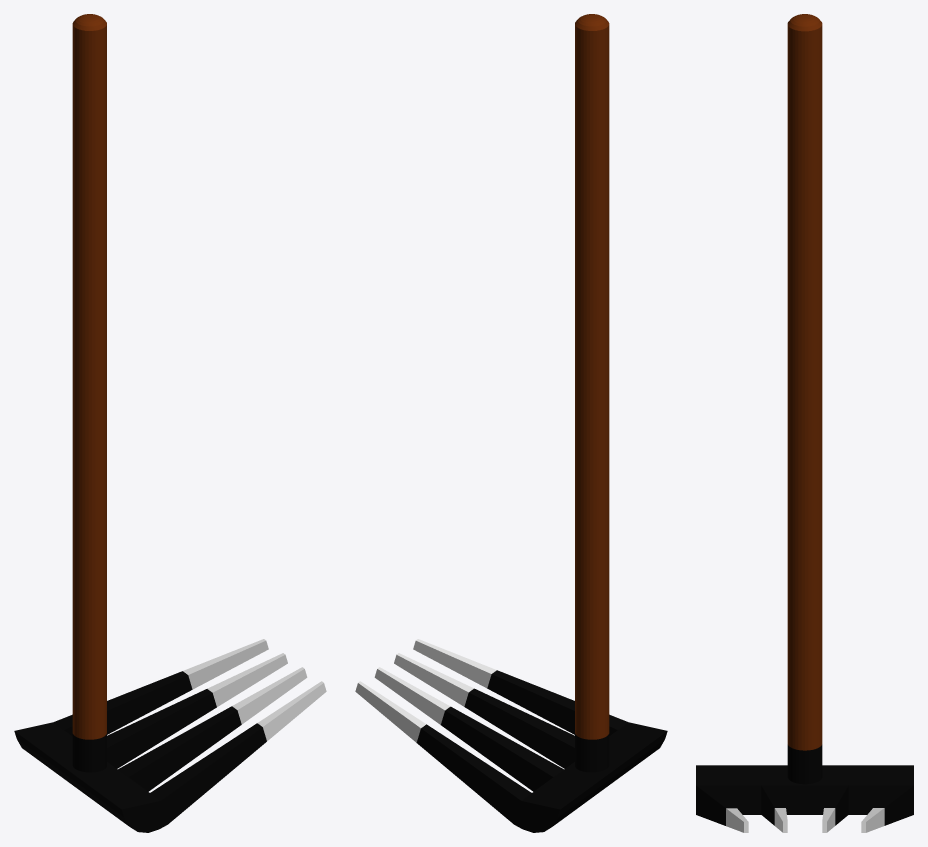
Rendered from Rake.fbx.
The picture shows the model from 3 angles, left to right: view 1: azimuth 30°, elevation 25°; view 2: azimuth 150°, elevation 25°; view 3: azimuth 270°, elevation 25°; orthographic projection.
Visible parts, largest first — view 1: Cylinder; view 2: Cylinder; view 3: Cylinder.
Part boxes in pixels (x1,y1,x2,y2): Cylinder: (14, 14, 326, 832); Cylinder: (355, 14, 667, 832); Cylinder: (696, 14, 913, 832).
Size of the model in its own units: 61.45 by 200 by 50.
